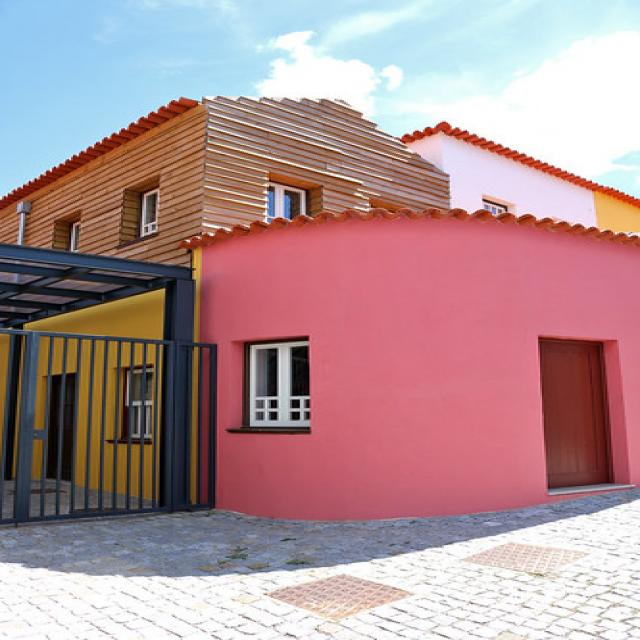Normal_building: (7, 86, 637, 522)
